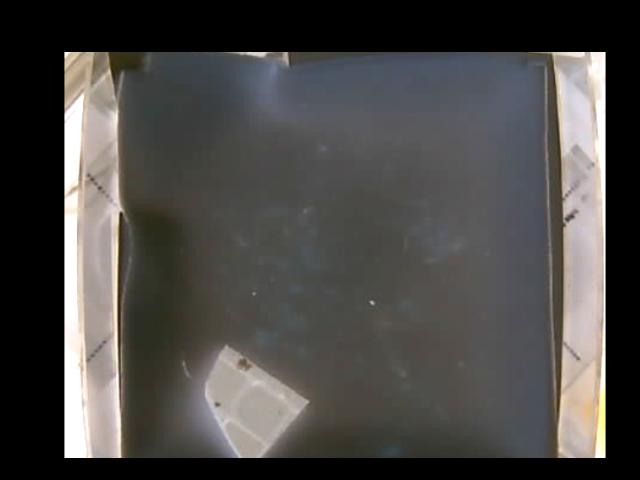China: (205, 342, 310, 457)
